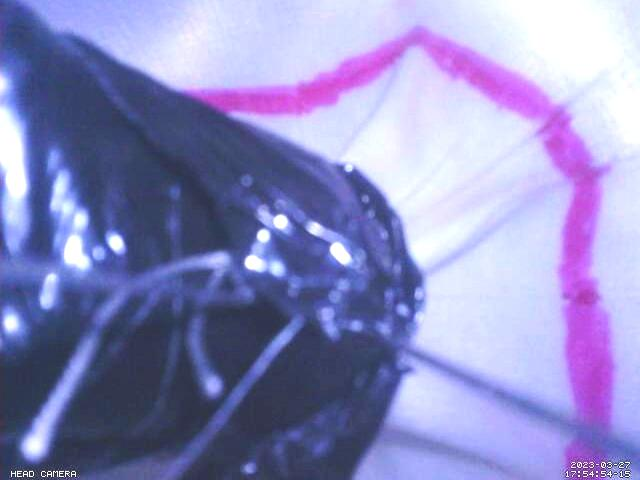red-circle: (185, 23, 618, 480)
